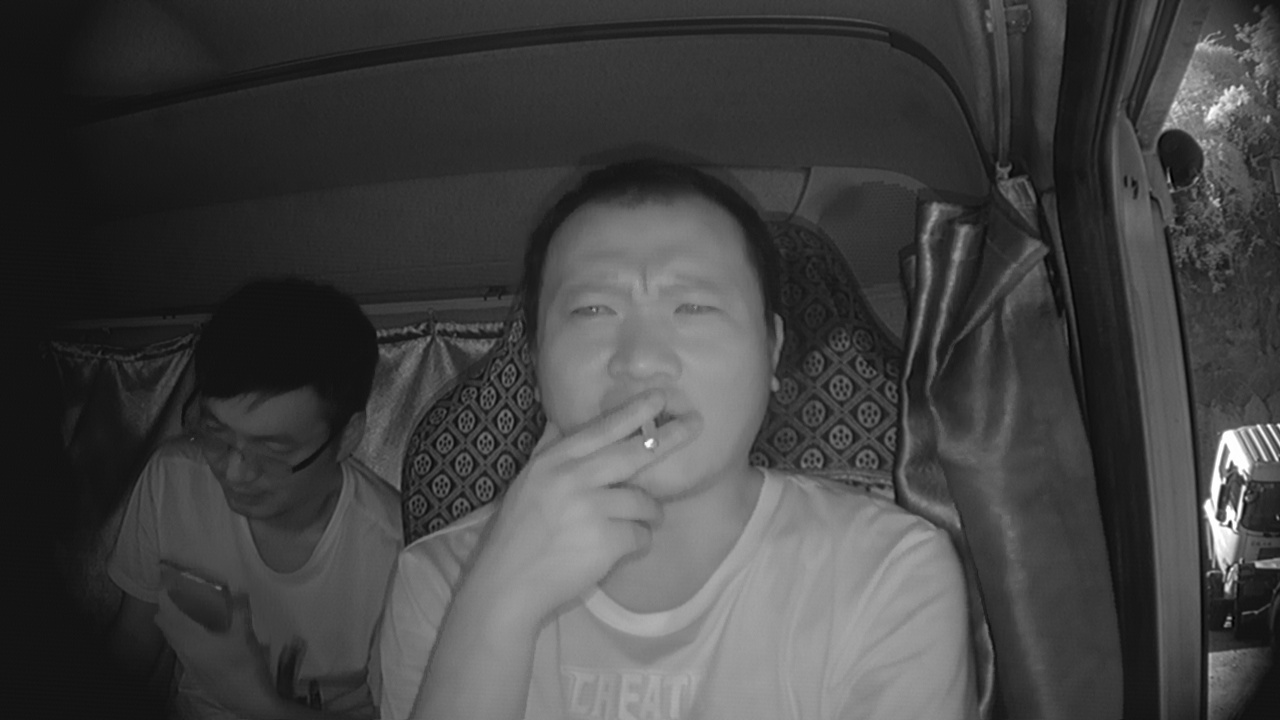hand: (500, 391, 704, 595)
